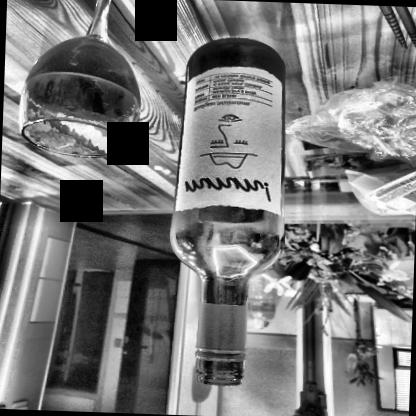umm: (177, 63, 285, 216)
